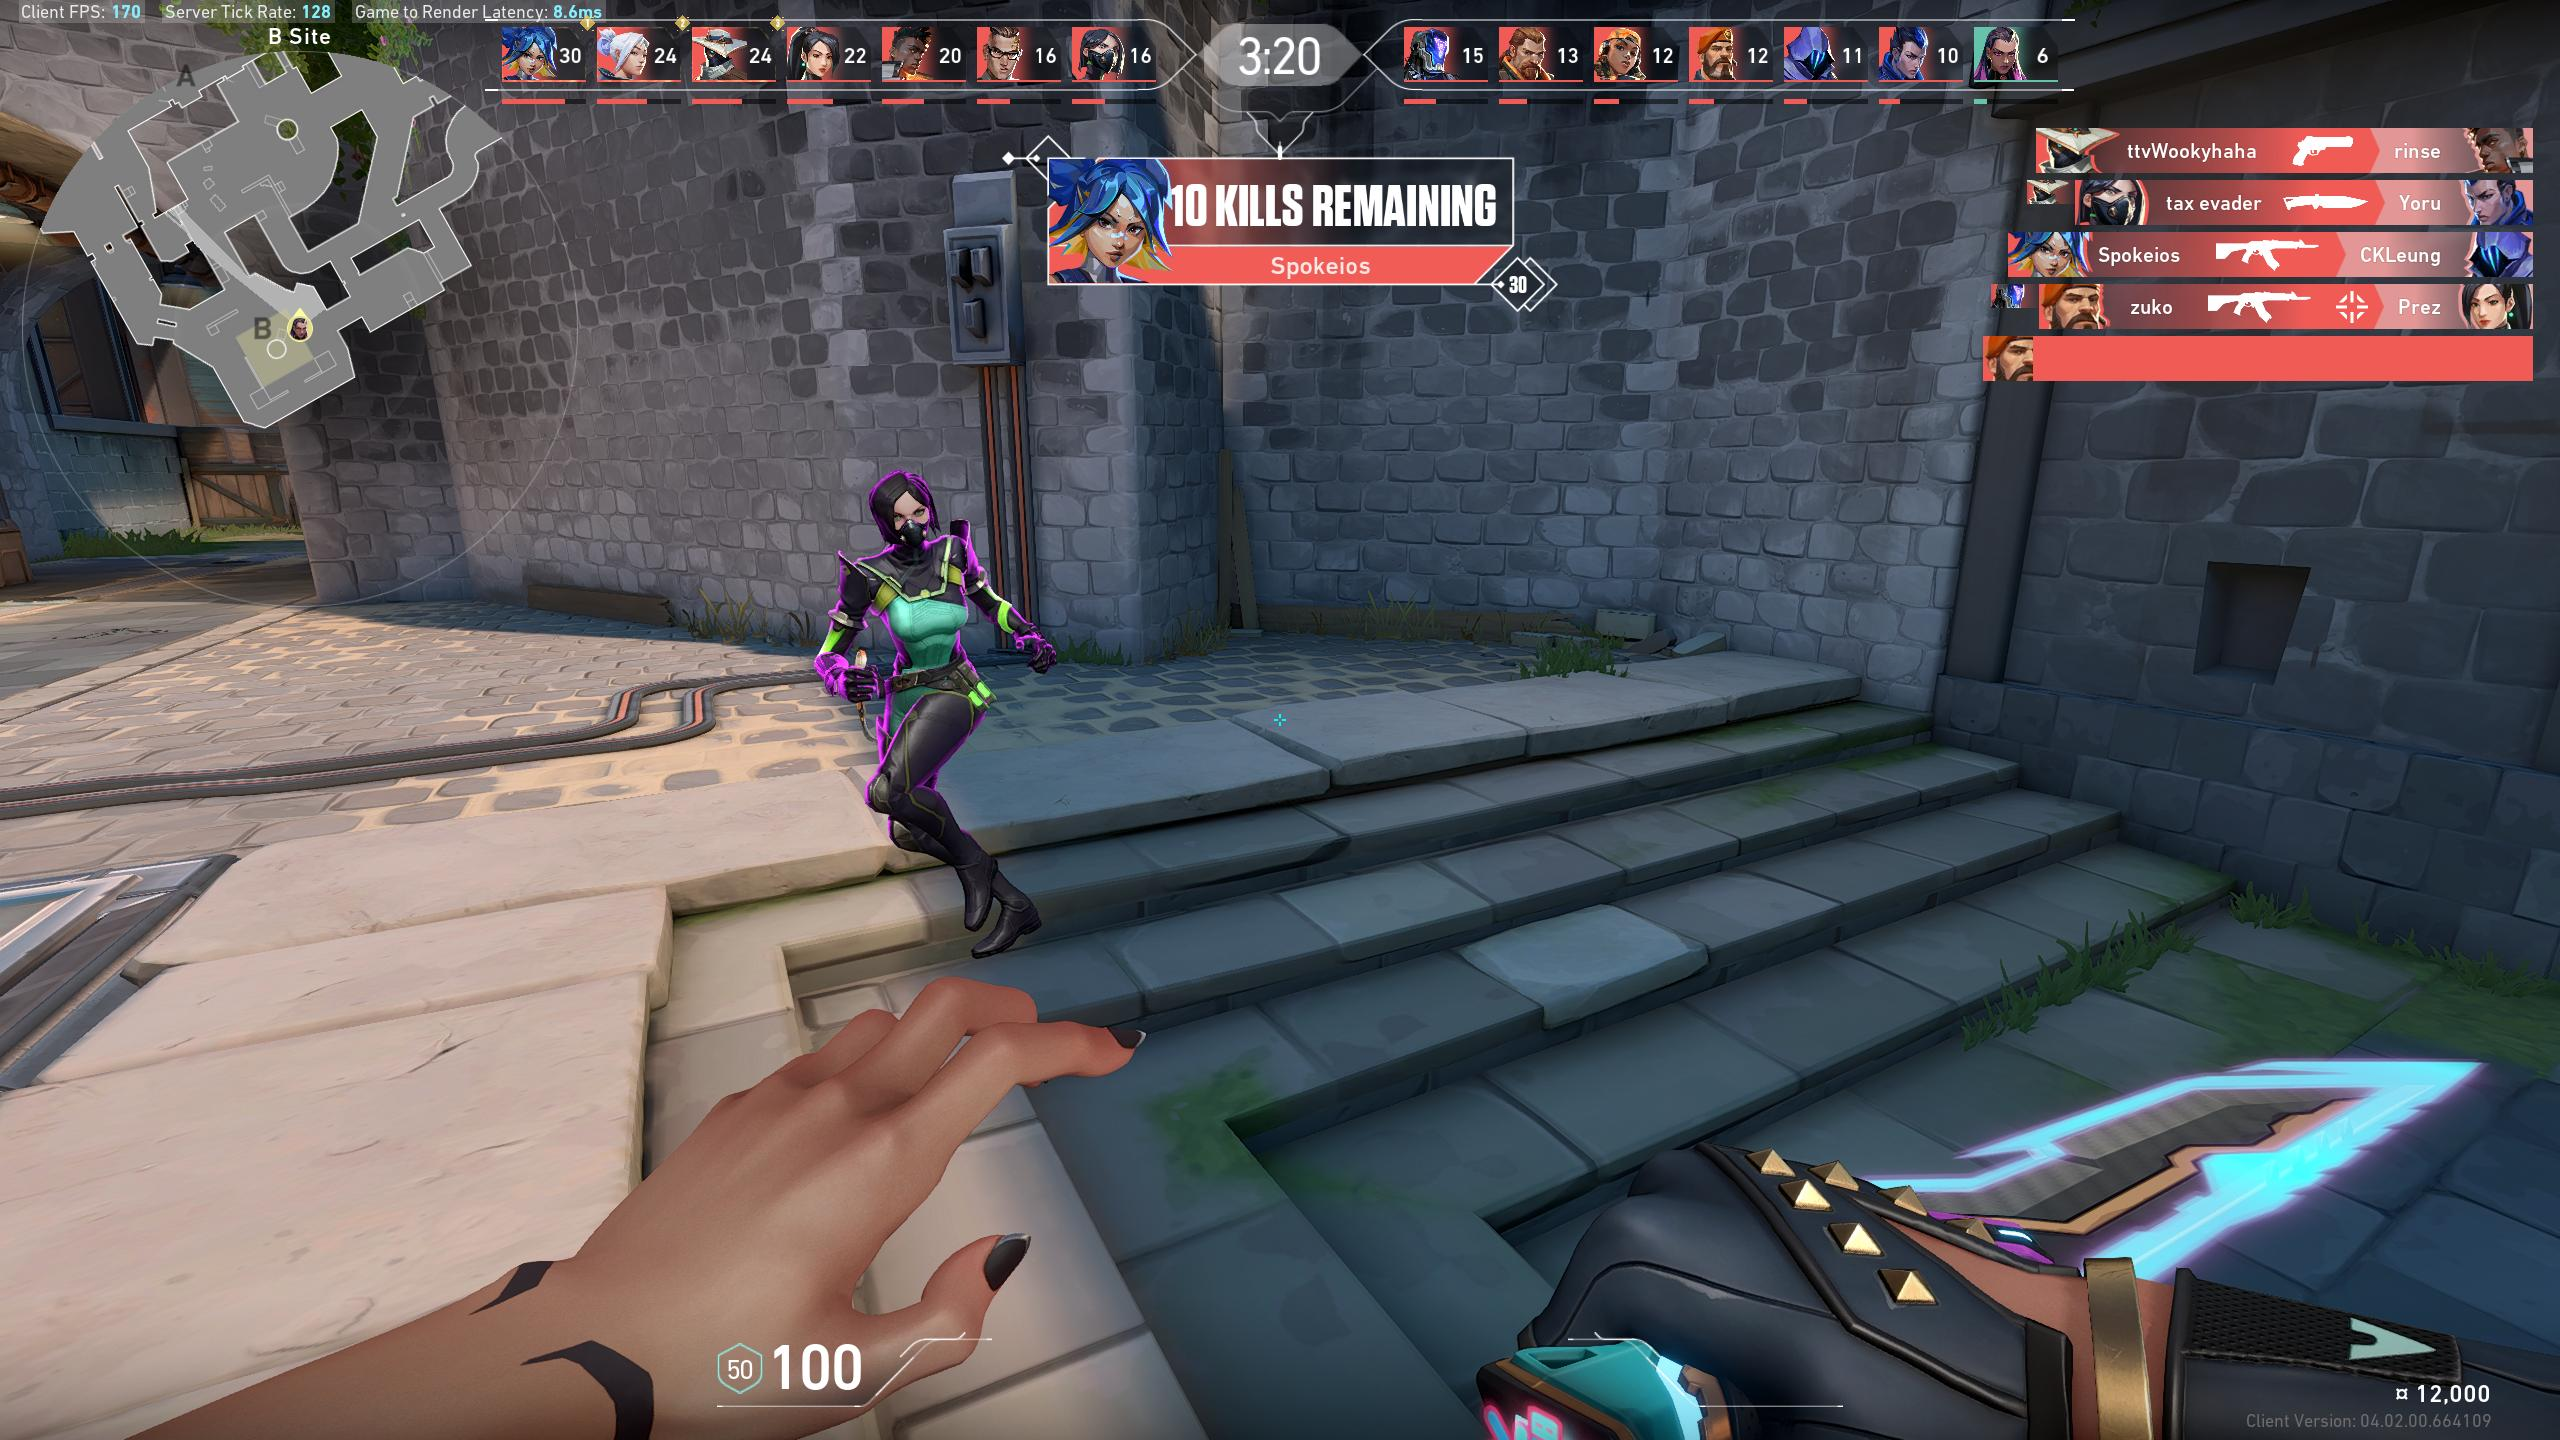enemyBody: (888, 559, 951, 665)
enemyHead: (883, 492, 930, 554)
